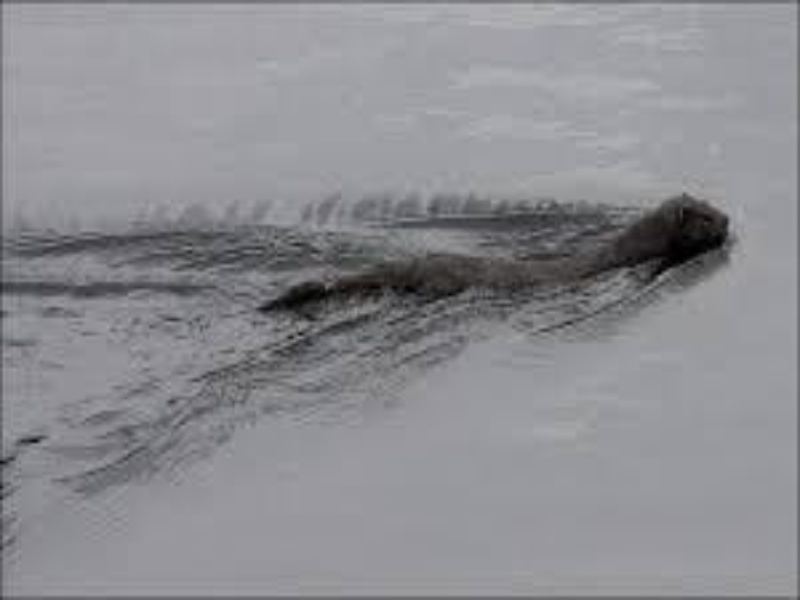minkish: (262, 188, 731, 318)
